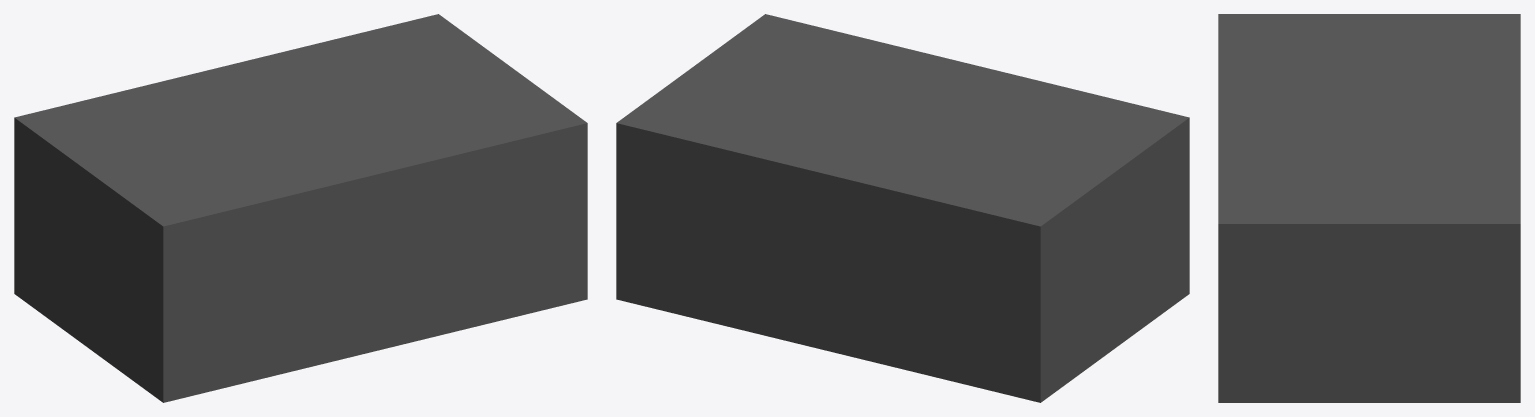
File: Itr_Obj_Grandfatherclock2_Base_04.FBX
3 views of the same model, side by side, from view 1: azimuth 30°, elevation 25°; view 2: azimuth 150°, elevation 25°; view 3: azimuth 270°, elevation 25° (orthographic).
Parts seen in each view (by area): view 1: Itr_Obj_Grandfatherclock2_Base_04; view 2: Itr_Obj_Grandfatherclock2_Base_04; view 3: Itr_Obj_Grandfatherclock2_Base_04.
Part boxes in pixels (x1=…): Itr_Obj_Grandfatherclock2_Base_04: x1=14, y1=14, x2=587, y2=402; Itr_Obj_Grandfatherclock2_Base_04: x1=616, y1=14, x2=1189, y2=402; Itr_Obj_Grandfatherclock2_Base_04: x1=1218, y1=14, x2=1520, y2=402.
Bounding box in the file's own units: 23.06 × 9.16 × 14.03.
